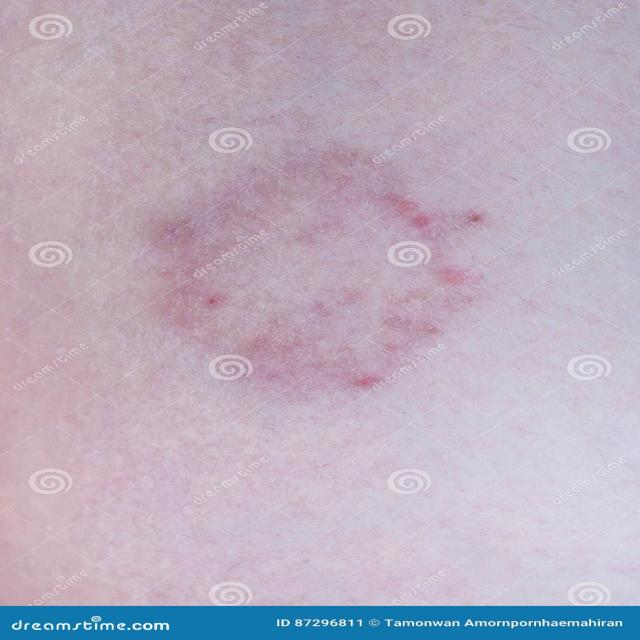tinea: (152, 155, 446, 397)
